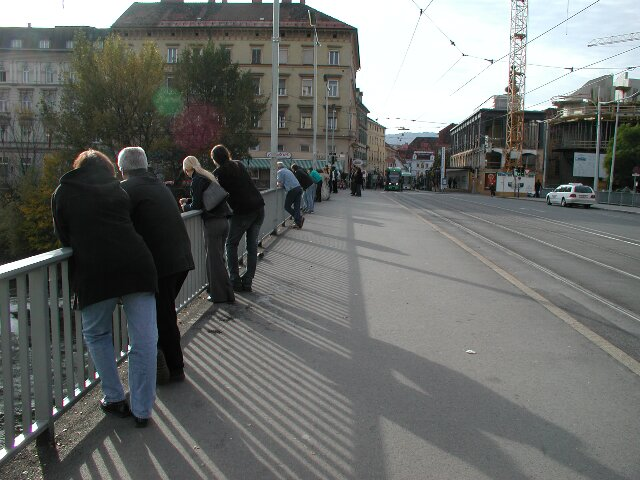person: (48, 146, 176, 417), (114, 141, 194, 390), (180, 153, 246, 309), (271, 152, 307, 228)
